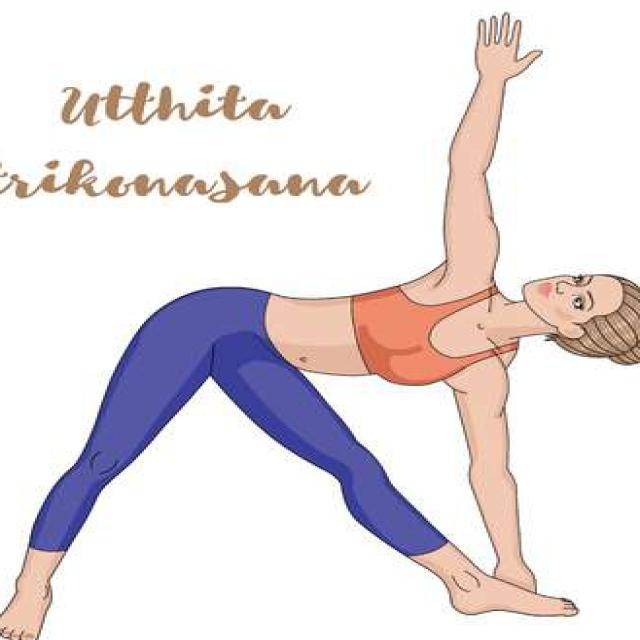Triangle_Pose: (3, 8, 640, 636)
